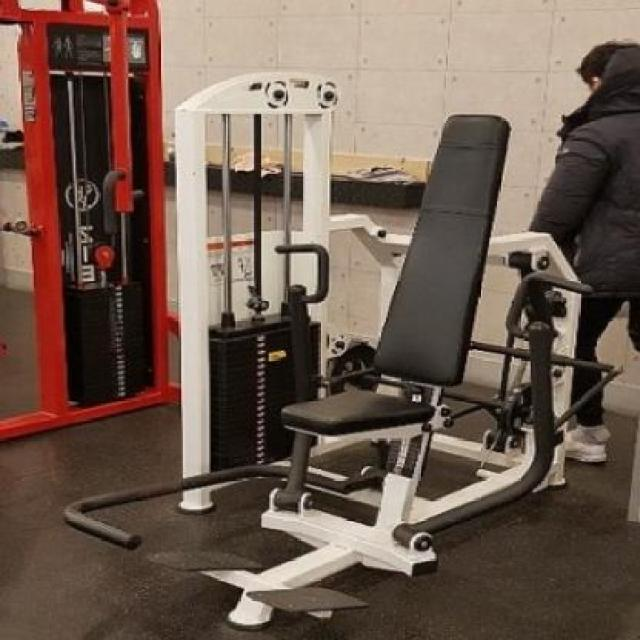Chest Press machine: (41, 52, 640, 639)
